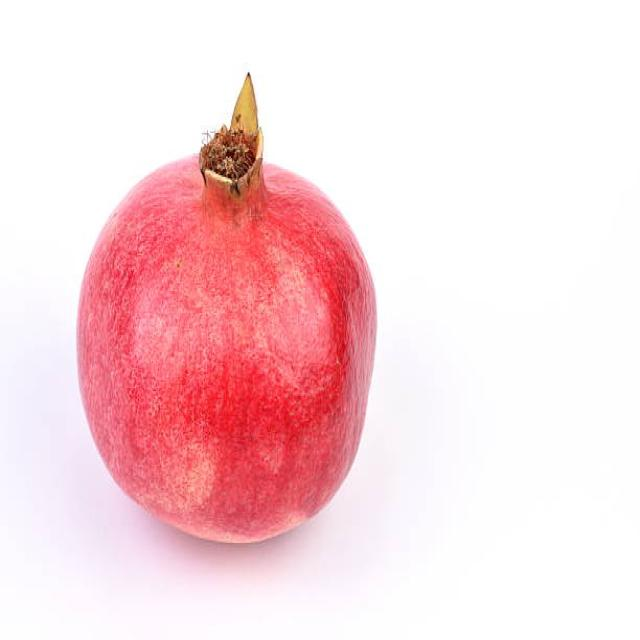Ripe: (69, 99, 384, 544)
